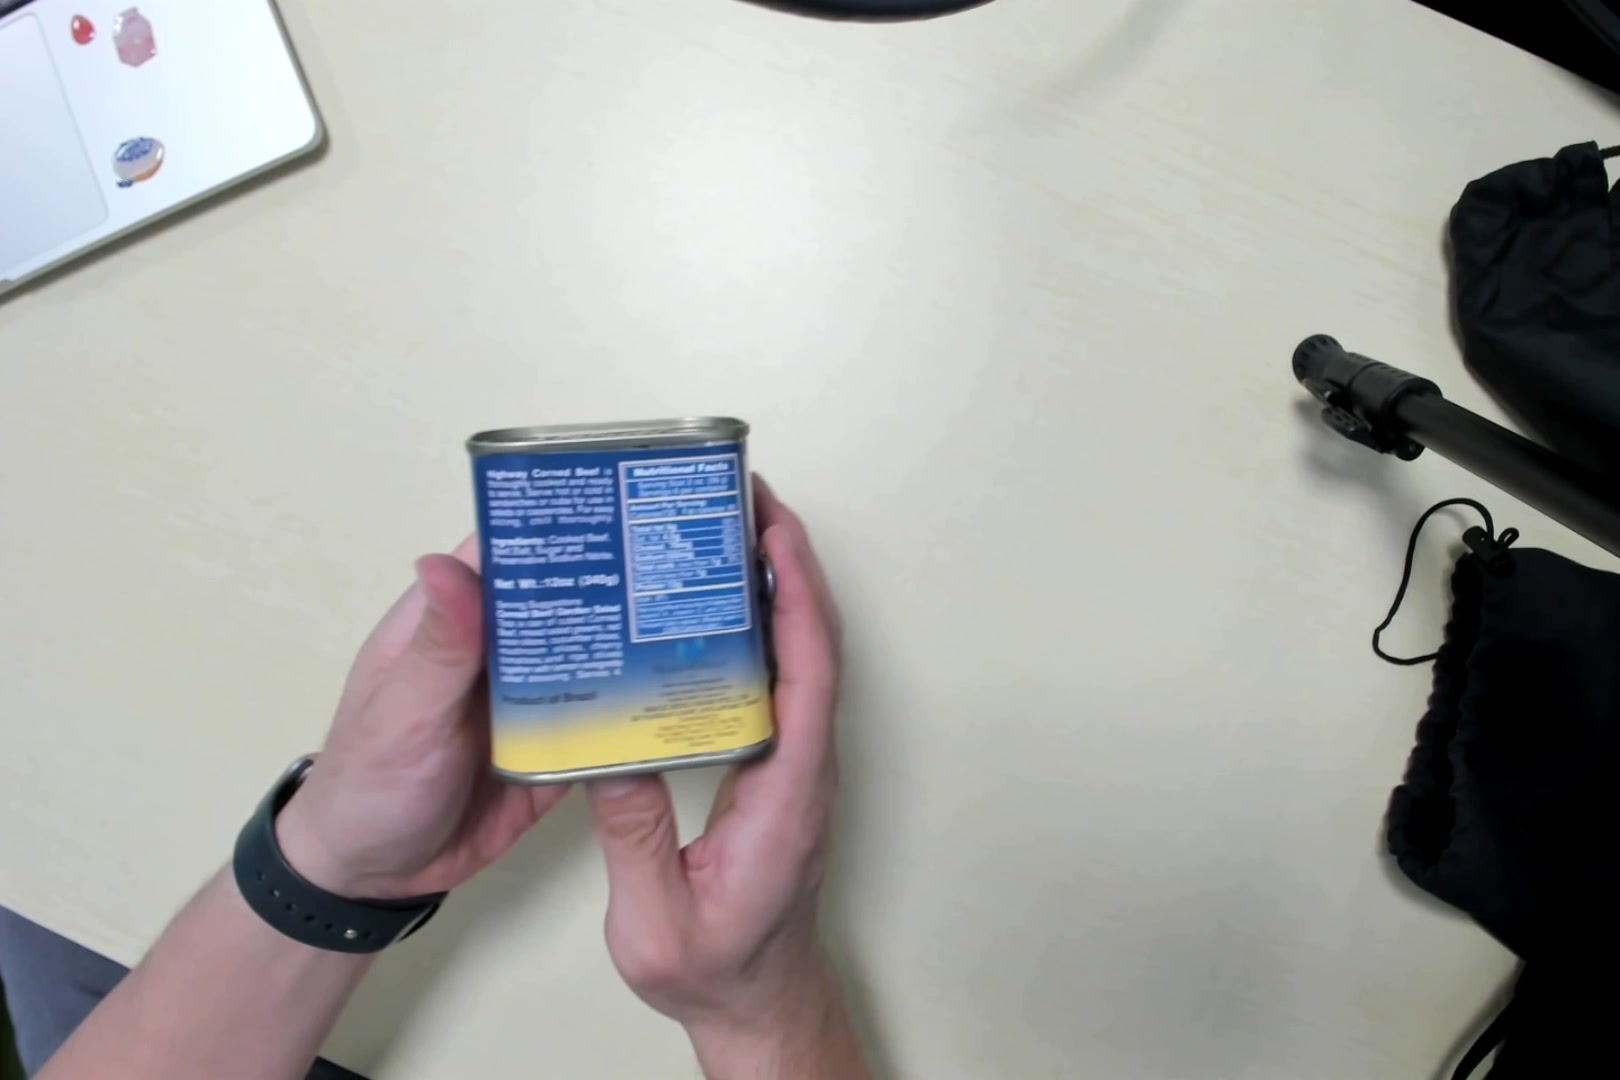CannedBeefOtherMeats_300-399g_Halal_NonHealthy: (479, 424, 767, 768)
